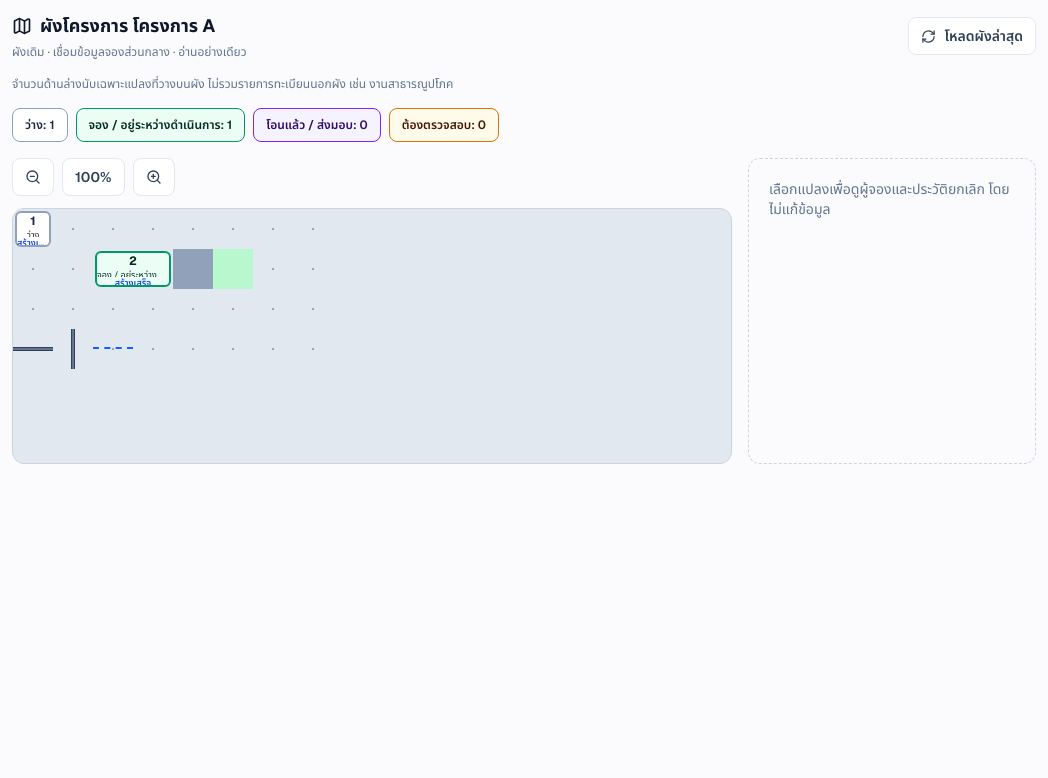
Test case: central booking read-only project map › clears displayed customer details immediately on project switch
Click the button with aria-label "แปลง 2 — จอง / อยู่ระหว่างดำเนินการ": point(133, 269) left=93, top=249, right=173, bottom=289
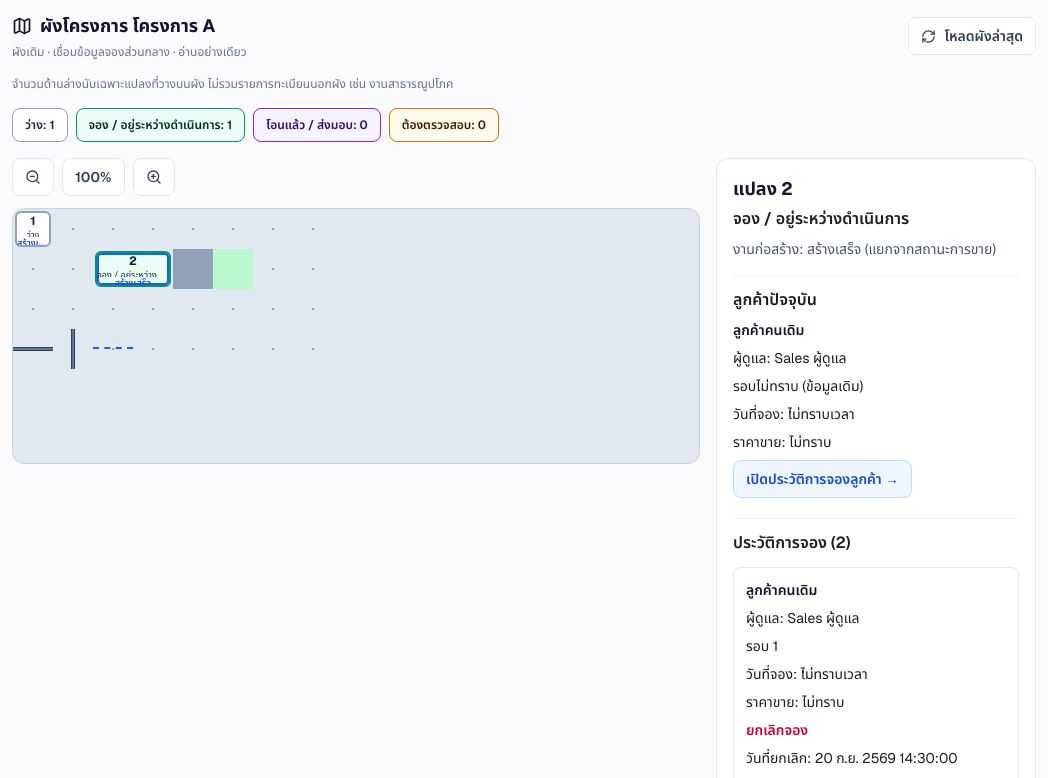
Expected: the text "ลูกค้าคนเดิม" below "ลูกค้าปัจจุบัน" is shown, left=733, top=321, right=804, bottom=339
